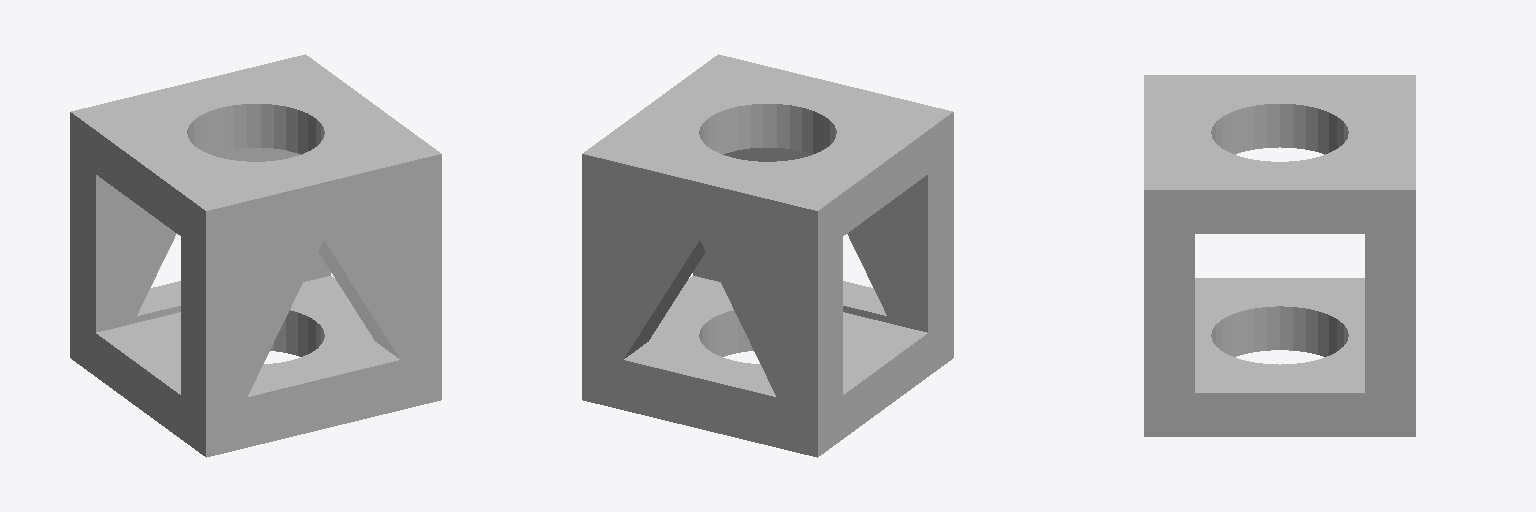
The model's file is cube_holes.obj.
The picture shows the model from 3 angles: view 1: azimuth 30°, elevation 25°; view 2: azimuth 150°, elevation 25°; view 3: azimuth 270°, elevation 25°; orthographic projection.
Parts seen in each view (by area): view 1: Cube; view 2: Cube; view 3: Cube.
Part boxes in pixels (x1,y1,x2,y2): Cube: (70,54,441,457); Cube: (582,54,953,457); Cube: (1144,75,1415,436).
Size of the model in its own units: 2 by 2 by 2.